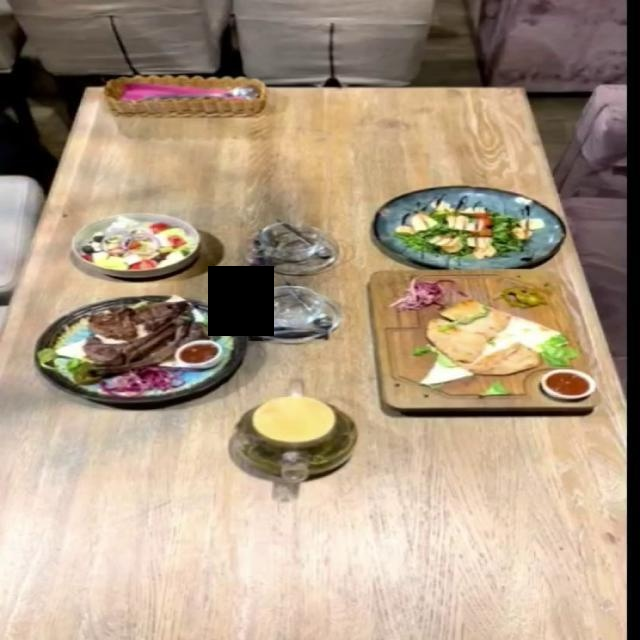meat: (369, 271, 592, 414), (33, 295, 249, 404)
salad: (379, 184, 571, 267), (70, 211, 201, 276)
tea: (230, 394, 359, 484)
